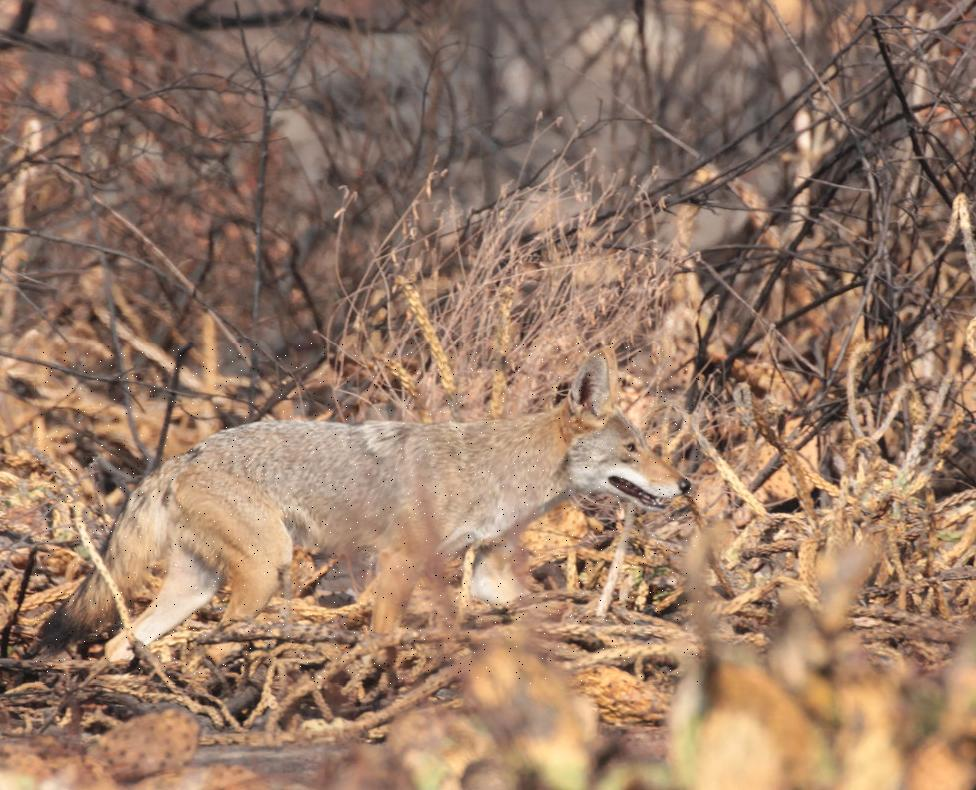Coyote: (34, 344, 698, 685)
